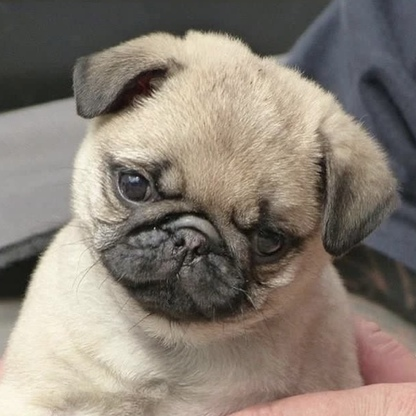Pug: (1, 21, 406, 416)
